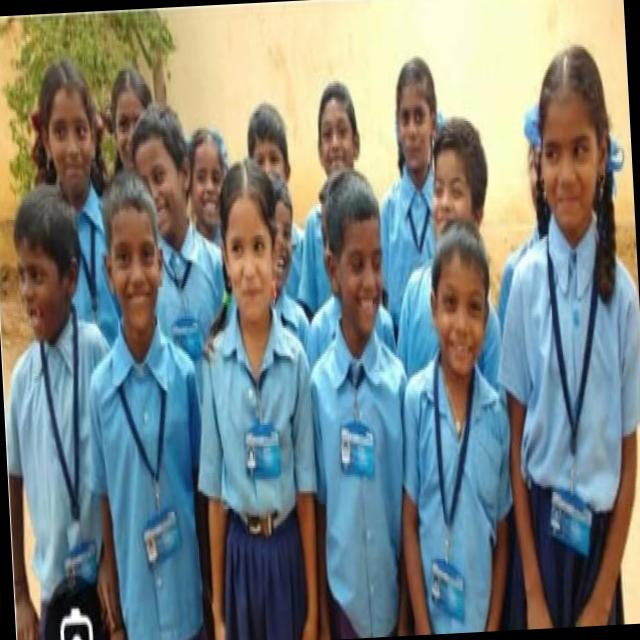id_card: (540, 256, 622, 549), (413, 362, 488, 617), (42, 341, 96, 586), (121, 372, 183, 564), (235, 357, 282, 509), (160, 243, 212, 357), (70, 212, 116, 339), (334, 376, 372, 486), (405, 189, 430, 259)
